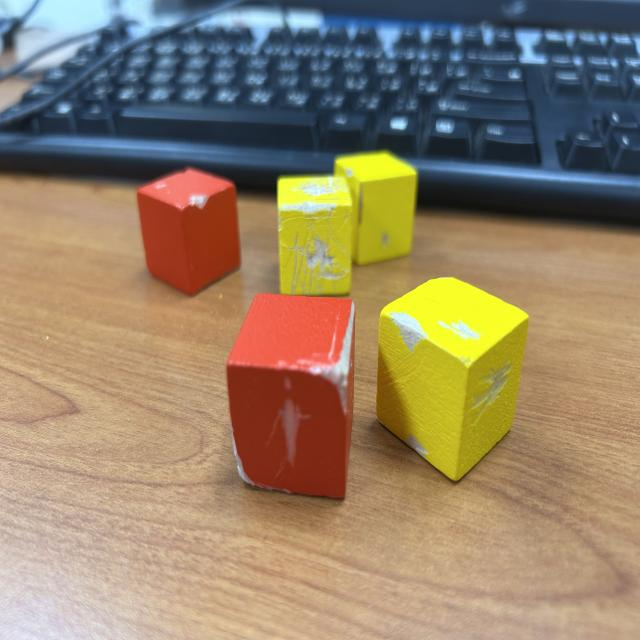broken: (376, 275, 530, 483), (227, 294, 355, 502), (137, 167, 242, 298), (334, 150, 417, 266), (277, 175, 354, 298)
